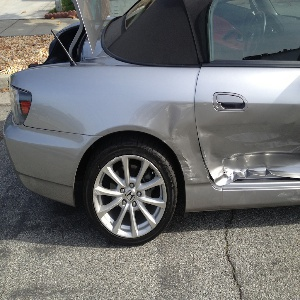door: (178, 129, 300, 193)
